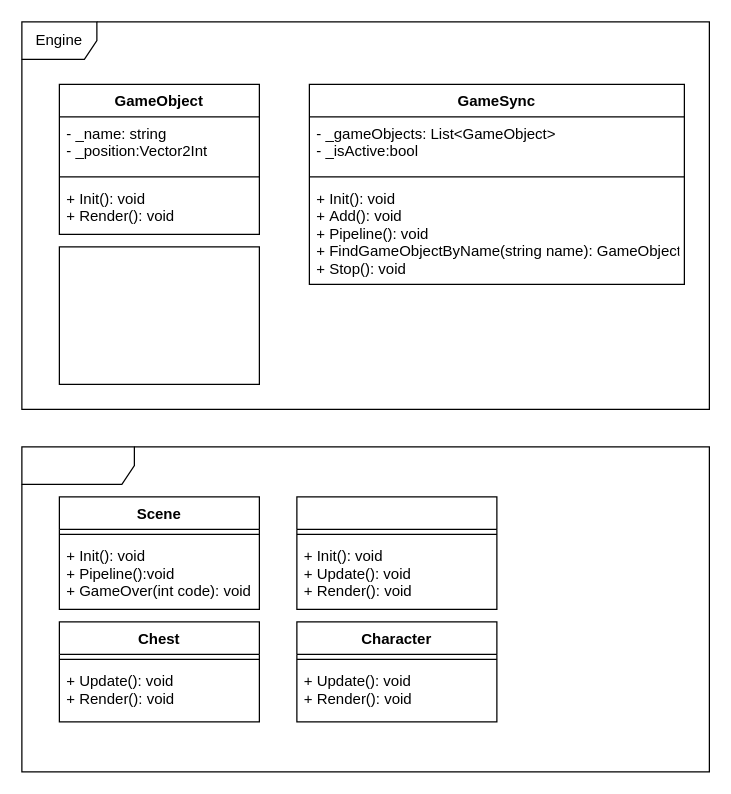
This 731x794 diagram has some shape labels left out. The box of each missing label's shape, as (x1, y1, x2, y2) in pixels:
Classname: (296, 496, 497, 609)
Game.Scripts: (21, 446, 709, 772)
Vector2Int - _x: int - _y: int + operator +: Vector2Int + operator -: Vector2Int: (58, 246, 259, 384)
